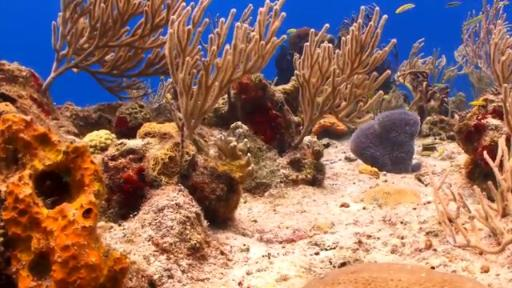Fish: (463, 15, 483, 27), (396, 4, 415, 13), (445, 1, 461, 7), (469, 100, 486, 105), (286, 28, 297, 34), (437, 148, 445, 156), (499, 1, 509, 7), (433, 84, 446, 87), (382, 95, 388, 99)
